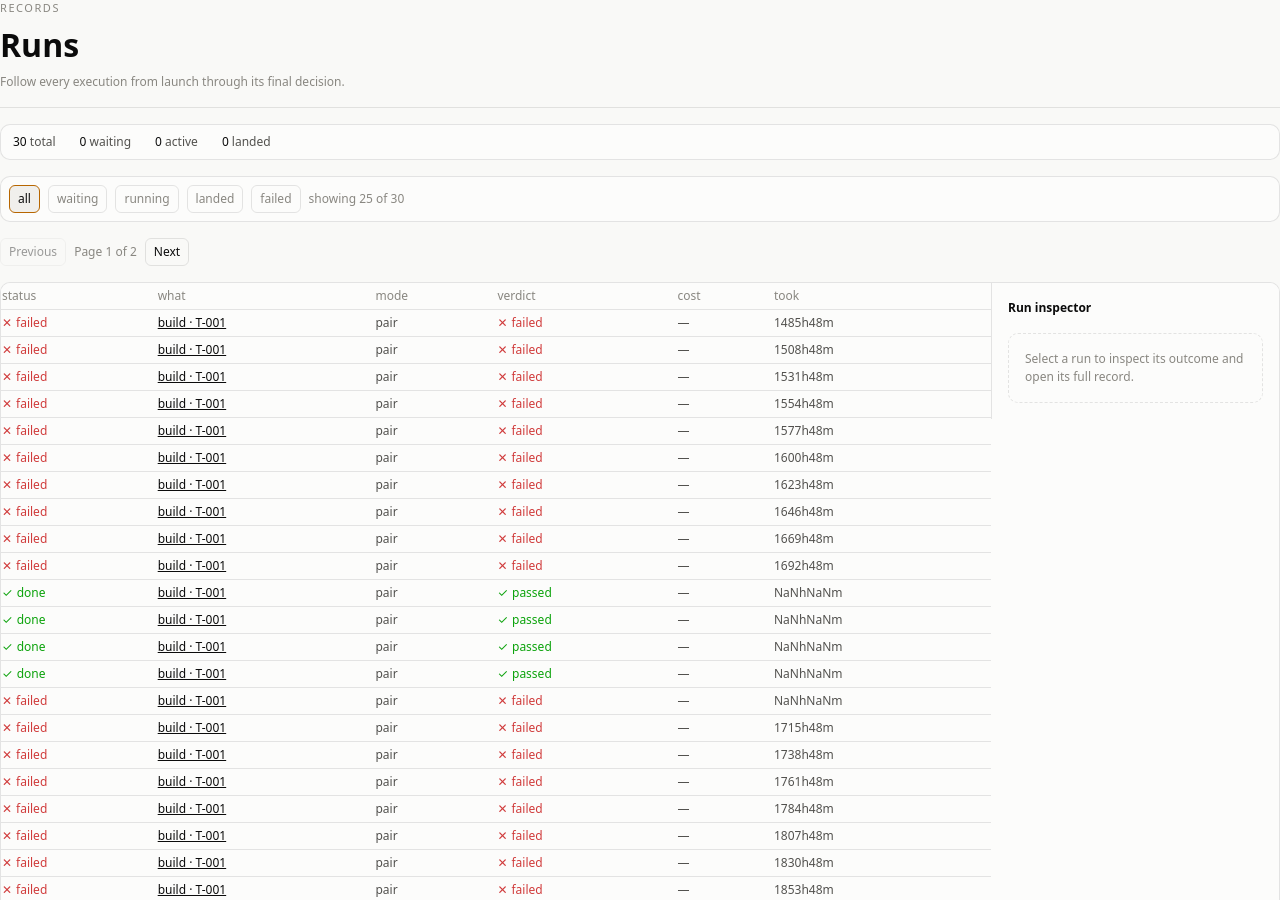
Runs › resets the page when changing filters and preserves the filter while paging
Click the button with test id "runs-next" at (167, 252), box x1=145 y1=238 x2=189 y2=266
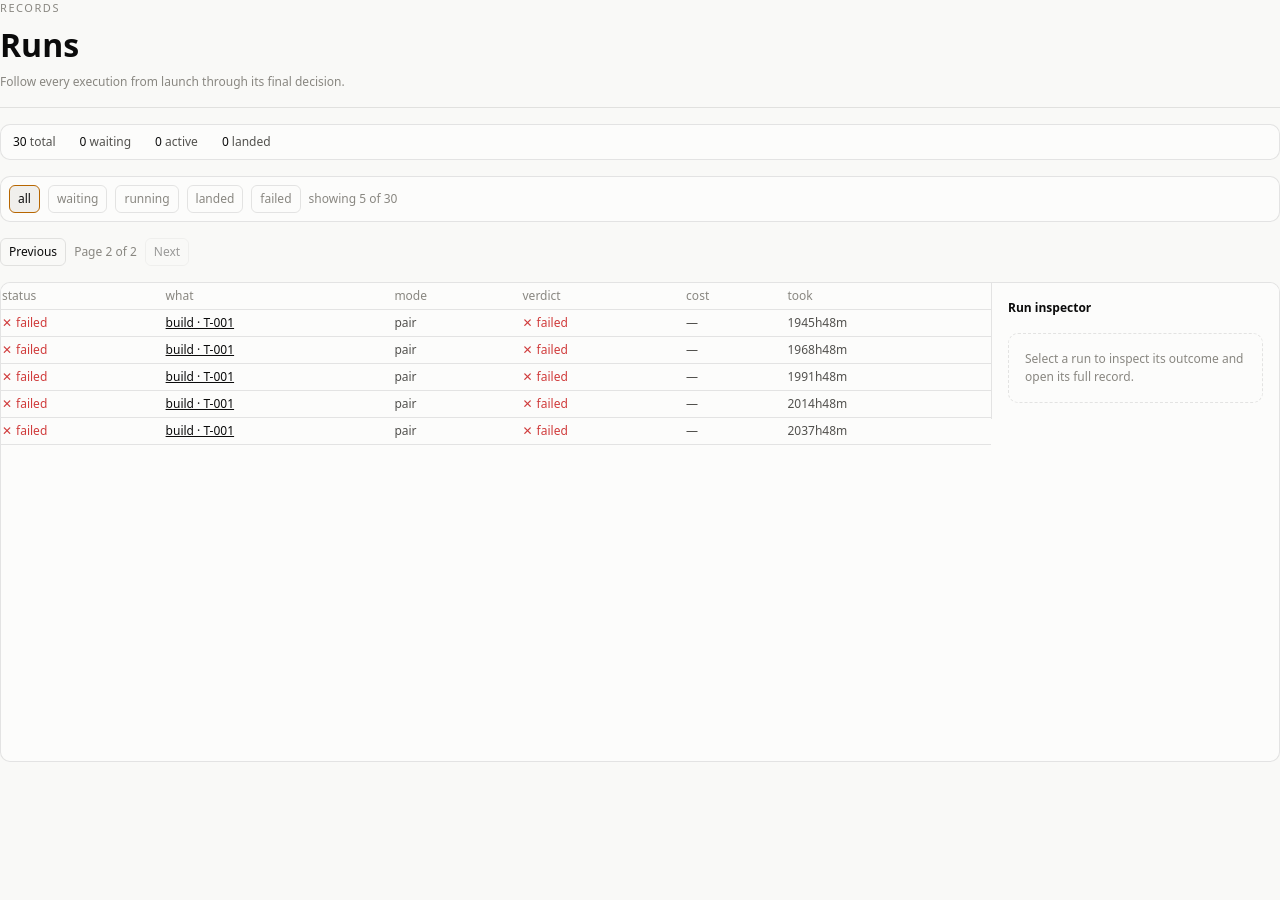
Expected: the text with test id "runs-page" reads "Page 2 of 2", x1=74 y1=242 x2=137 y2=260
Click the button with test id "runs-filter-failed" at (276, 198), box x1=251 y1=184 x2=300 y2=212
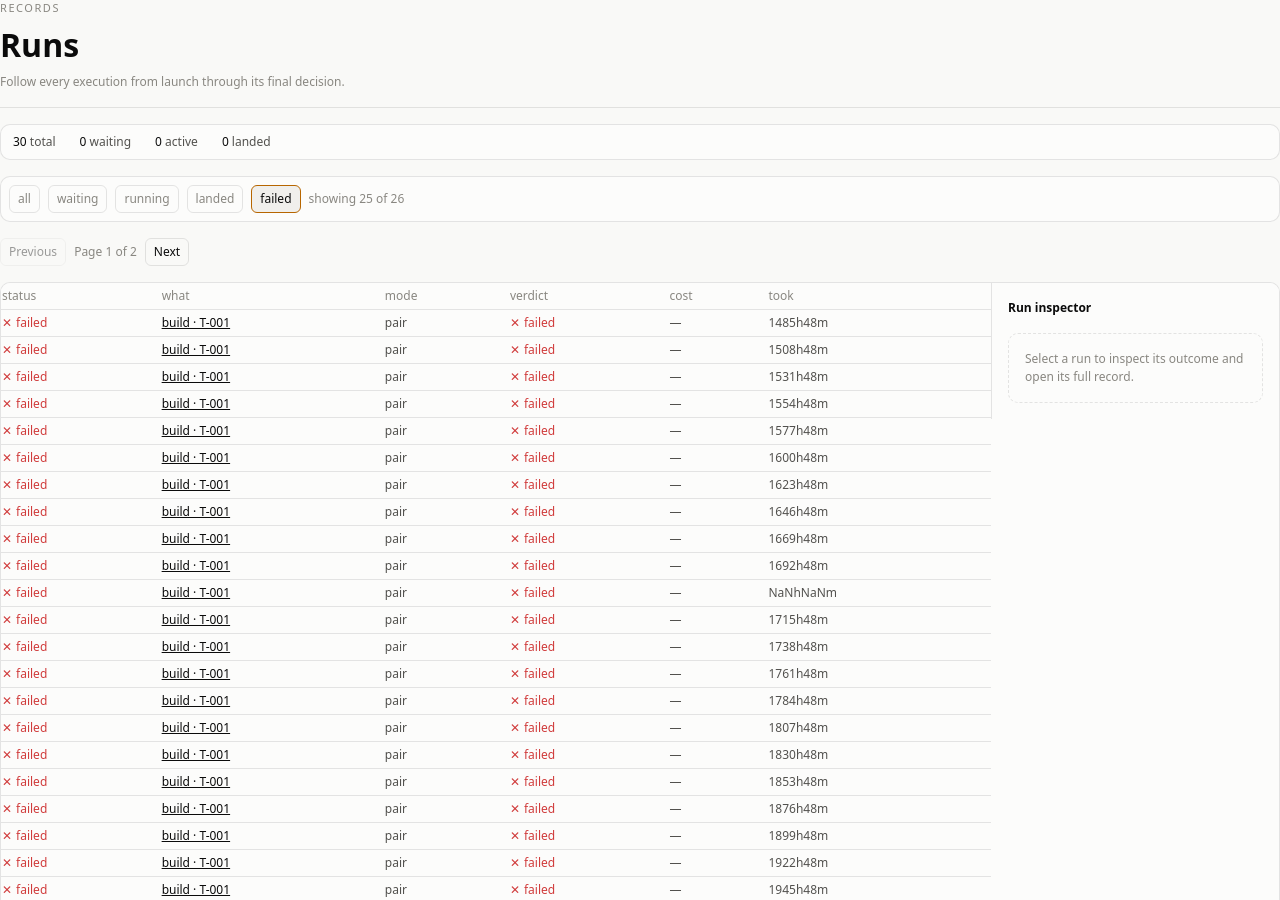
Expected: the text with test id "runs-page" reads "Page 1 of 2", x1=74 y1=242 x2=137 y2=260
Expected: the text with test id "runs-count" reads "showing 25 of 26", x1=308 y1=190 x2=404 y2=208
Click the button with test id "runs-next" at (167, 252), box x1=145 y1=238 x2=189 y2=266
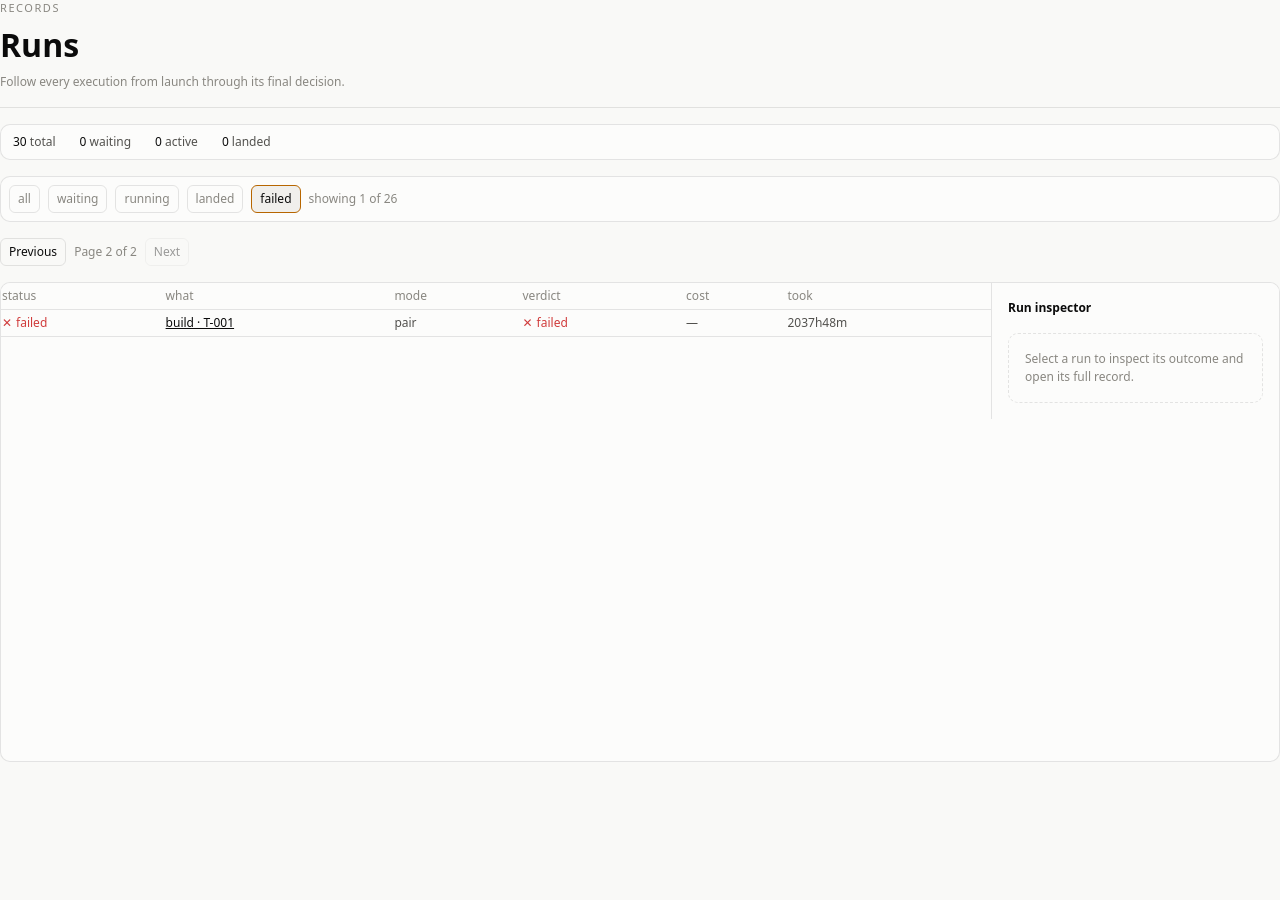
Expected: the row with test id "runs-row" shows "failed", x1=16 y1=314 x2=47 y2=330
Expected: the text with test id "runs-page" reads "Page 2 of 2", x1=74 y1=242 x2=137 y2=260
Expected: the number of rows with test id "runs-row" is 1, x1=1 y1=309 x2=991 y2=336
